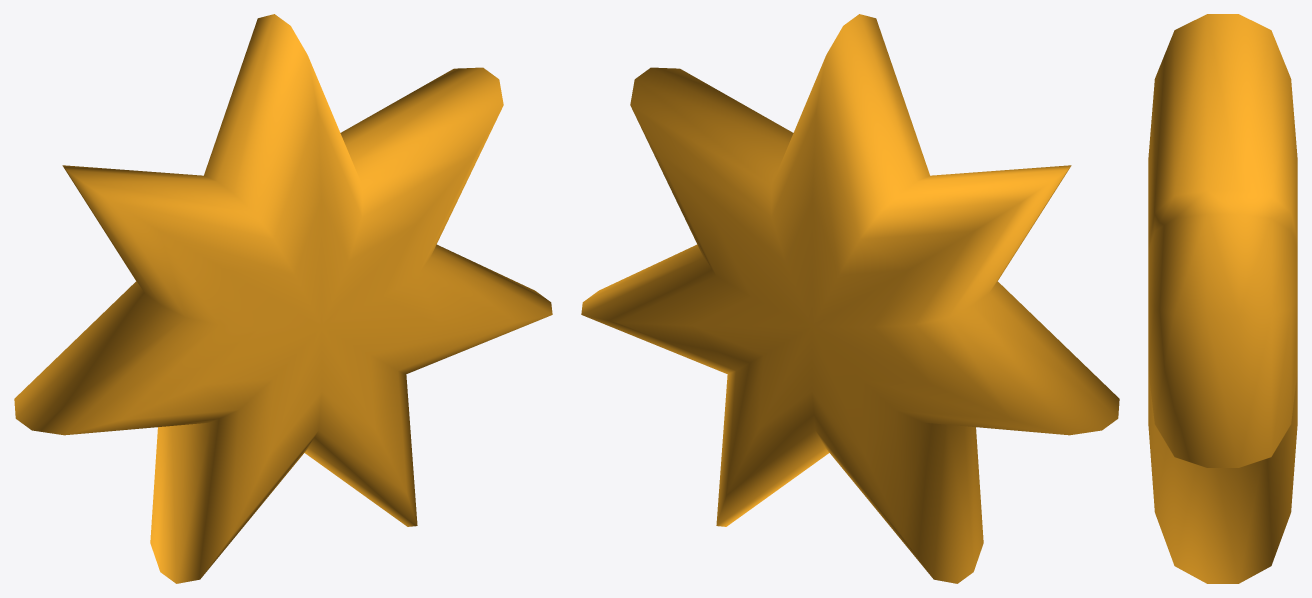
File: 04-STAR-07.fbx
3 views of the same model, side by side, from view 1: azimuth 30°, elevation 25°; view 2: azimuth 150°, elevation 25°; view 3: azimuth 270°, elevation 25° (orthographic). The views are drawn at different scales.
Visible parts, largest first — view 1: 04-STAR-07; view 2: 04-STAR-07; view 3: 04-STAR-07.
Part boxes in pixels (left/top/right/bottom): 04-STAR-07: left=14, top=14, right=552, bottom=583; 04-STAR-07: left=581, top=14, right=1119, bottom=583; 04-STAR-07: left=1148, top=14, right=1297, bottom=583.
Size of the model in its own units: 390 by 380 by 100.
